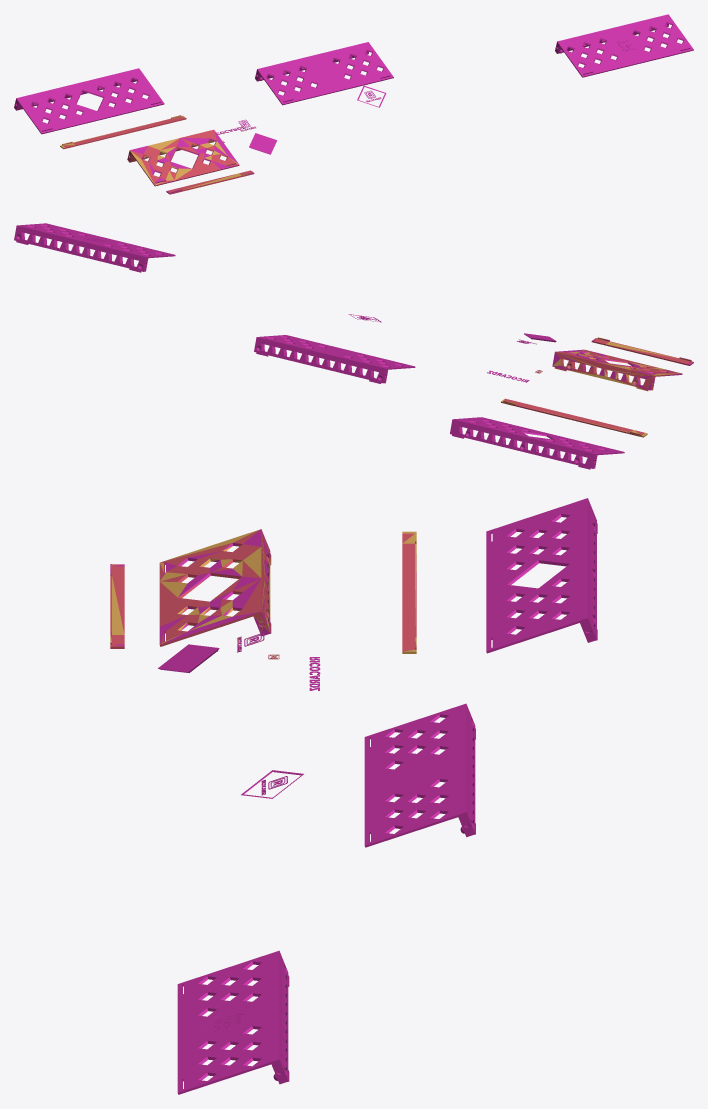
The model's file is Box_Risers_217.5mm_V2.1.glb.
The picture shows the model from 3 angles, top to bottom: view 1: azimuth 30°, elevation 25°; view 2: azimuth 150°, elevation 25°; view 3: azimuth 270°, elevation 25°; orthographic projection. The views are drawn at different scales.
Visible parts, largest first — view 1: Mesh_Mesh_head_geo.001_lambert2SG.001; view 2: Mesh_Mesh_head_geo.001_lambert2SG.001; view 3: Mesh_Mesh_head_geo.001_lambert2SG.001.
Part boxes in pixels (box(x1,y1,x2,y2)): Mesh_Mesh_head_geo.001_lambert2SG.001: box(14, 14, 693, 194); Mesh_Mesh_head_geo.001_lambert2SG.001: box(14, 223, 693, 469); Mesh_Mesh_head_geo.001_lambert2SG.001: box(110, 498, 597, 1094).
Bounding box in the file's own units: 1123 × 37.12 × 412.
